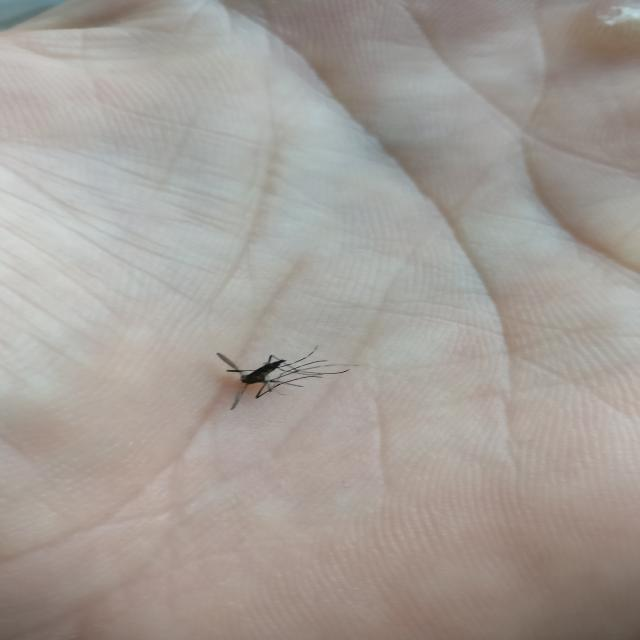albopictus: (206, 338, 352, 409)
